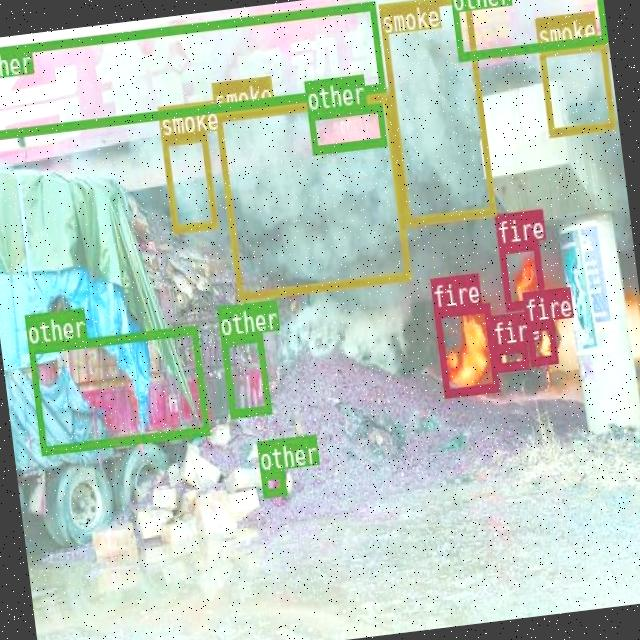fire: (432, 302, 498, 396), (497, 240, 545, 308), (524, 318, 556, 364), (492, 341, 528, 370)
smoke: (213, 91, 410, 299), (377, 0, 494, 225), (537, 38, 614, 135), (160, 130, 216, 232)
